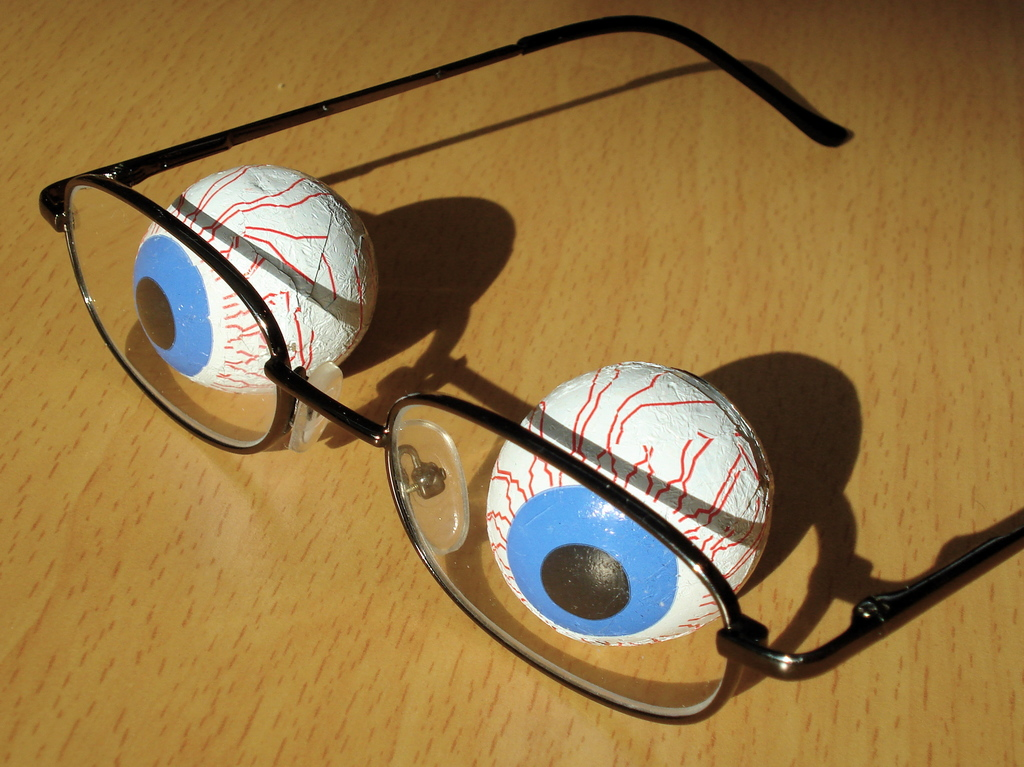Ball: (483, 367, 772, 652), (137, 161, 378, 395)
